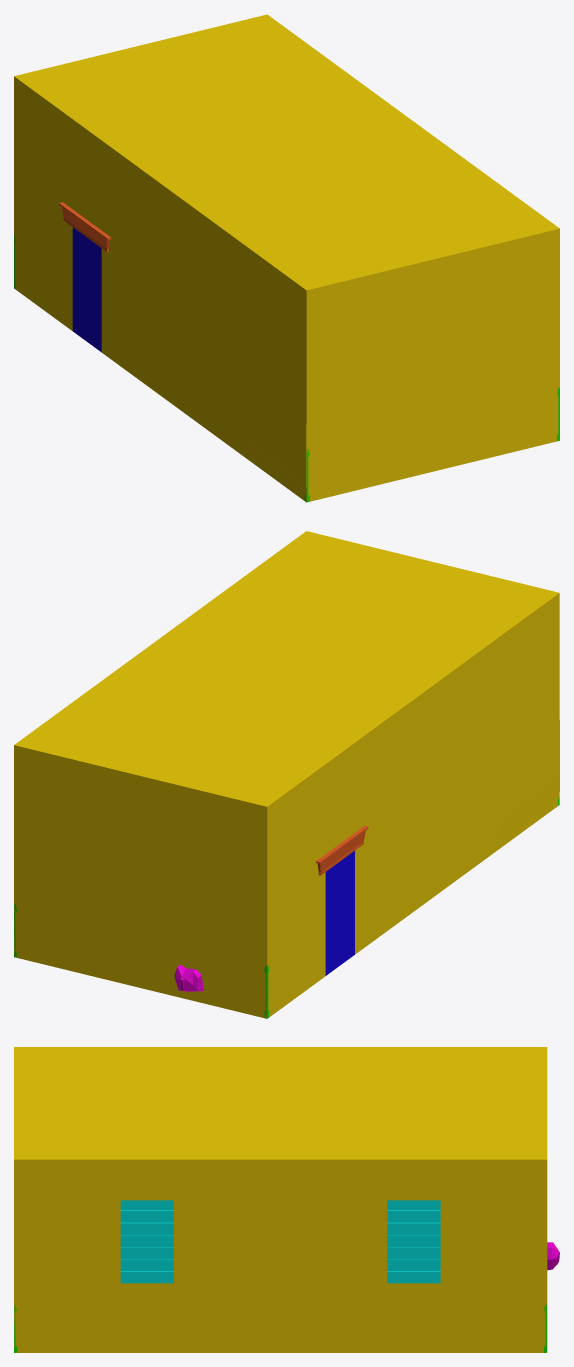
The model's file is obj_Prototyproom.fbx.
The picture shows the model from 3 angles, top to bottom: view 1: azimuth 30°, elevation 25°; view 2: azimuth 150°, elevation 25°; view 3: azimuth 270°, elevation 25°; orthographic projection. The views are drawn at different scales.
Parts seen in each view (by area): view 1: Wand, Tür, Türrahmen; view 2: Wand, Tür, Türrahmen; view 3: Wand, Brett, Brett.004, Brett.005, Brett.030, Brett.035, Brett.031, Brett.001, Brett.002, Brett.003, Brett.034, Brett.033 (+3 smaller).
Part boxes in pixels (x1,y1,x2,y2): Wand: (14,14,559,502); Tür: (72,227,101,352); Türrahmen: (59,202,111,251); Wand: (14,531,559,1018); Tür: (325,851,354,975); Türrahmen: (316,826,368,875); Wand: (14,1047,559,1352); Brett: (387,1271,440,1283); Brett.004: (387,1222,440,1234); Brett.005: (387,1210,440,1222); Brett.030: (120,1210,173,1222); Brett.035: (120,1271,173,1283); Brett.031: (120,1222,173,1234); Brett.001: (387,1259,440,1270); Brett.002: (387,1247,440,1258); Brett.003: (387,1235,440,1246); Brett.034: (120,1259,173,1270); Brett.033: (120,1247,173,1258).
Size of the model in its own units: 508 by 400 by 1024.
